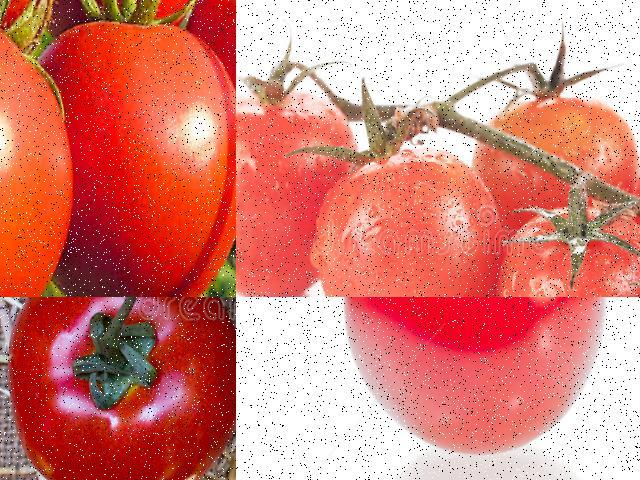tomato: (37, 13, 235, 296), (323, 297, 617, 461), (0, 297, 235, 479), (326, 137, 498, 296), (236, 78, 352, 296), (0, 0, 74, 296), (479, 93, 626, 226), (509, 193, 639, 296), (192, 0, 235, 187), (67, 0, 206, 38)
